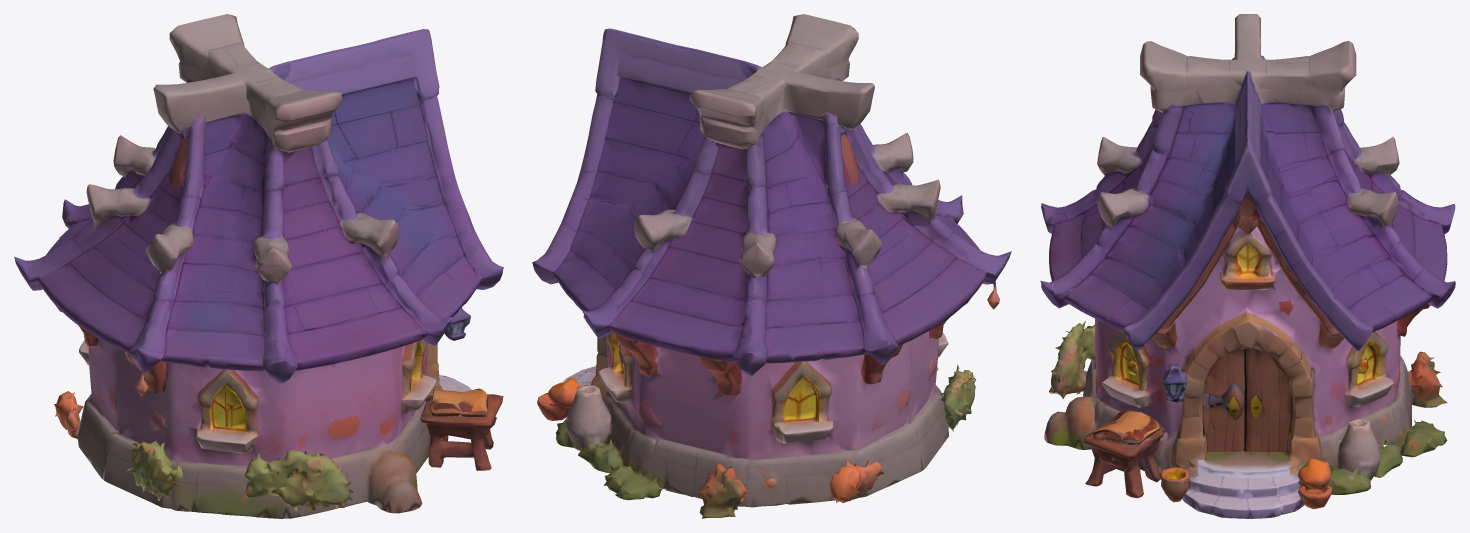
The model's file is scribe.glb.
3 renders of one model, left to right at view 1: azimuth 30°, elevation 25°; view 2: azimuth 150°, elevation 25°; view 3: azimuth 270°, elevation 25°, orthographic. The views are drawn at different scales.
Parts seen in each view (by area): view 1: tripo_node_7d9c87c9-301c-4699-9e66-7153625d1821; view 2: tripo_node_7d9c87c9-301c-4699-9e66-7153625d1821; view 3: tripo_node_7d9c87c9-301c-4699-9e66-7153625d1821.
Part boxes in pixels (<box>): tripo_node_7d9c87c9-301c-4699-9e66-7153625d1821: <box>14,14,503,518</box>; tripo_node_7d9c87c9-301c-4699-9e66-7153625d1821: <box>532,14,1011,518</box>; tripo_node_7d9c87c9-301c-4699-9e66-7153625d1821: <box>1040,14,1455,518</box>.
Bounding box in the file's own units: 1 × 0.9467 × 0.9665.
Materials: 1 (1 with a texture image).
